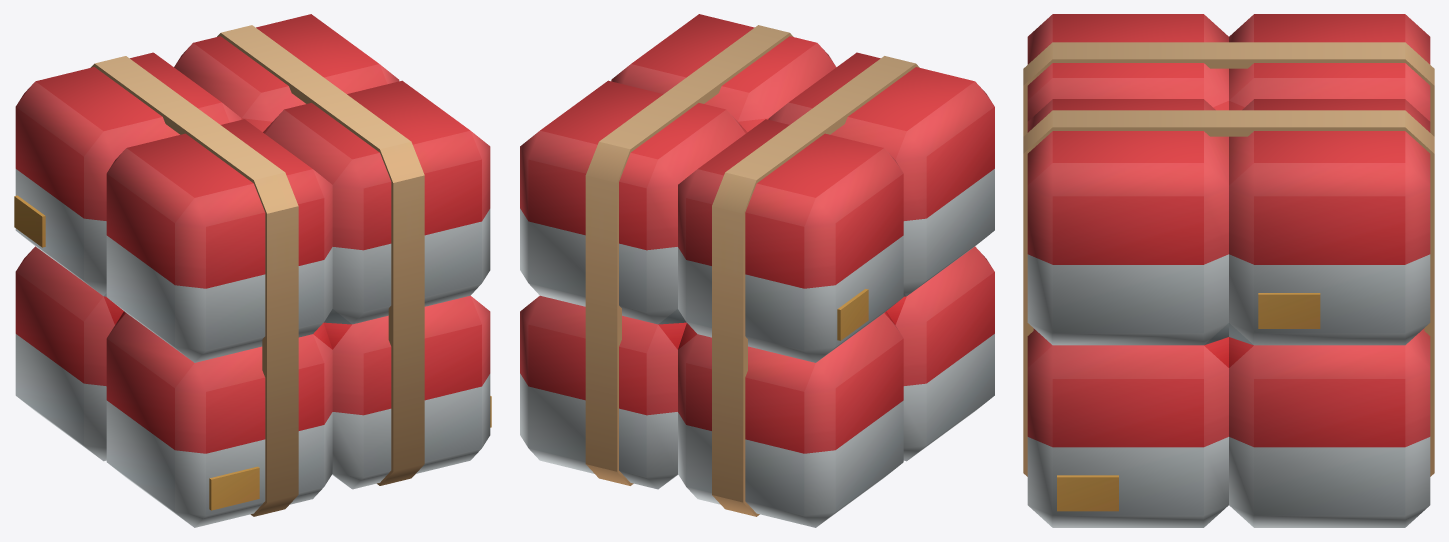
Rendered from cargo.glb.
3 views of the same model, side by side, from view 1: azimuth 30°, elevation 25°; view 2: azimuth 150°, elevation 25°; view 3: azimuth 270°, elevation 25° (orthographic). The views are drawn at different scales.
Parts seen in each view (by area): view 1: cargo_A_stacked; view 2: cargo_A_stacked; view 3: cargo_A_stacked.
Part boxes in pixels (left/top/right/bottom): cargo_A_stacked: left=14, top=14, right=491, bottom=527; cargo_A_stacked: left=520, top=14, right=994, bottom=527; cargo_A_stacked: left=1023, top=14, right=1434, bottom=527.
Size of the model in its own units: 1.02 by 1.02 by 1.02.
1 material, 1 textured.
